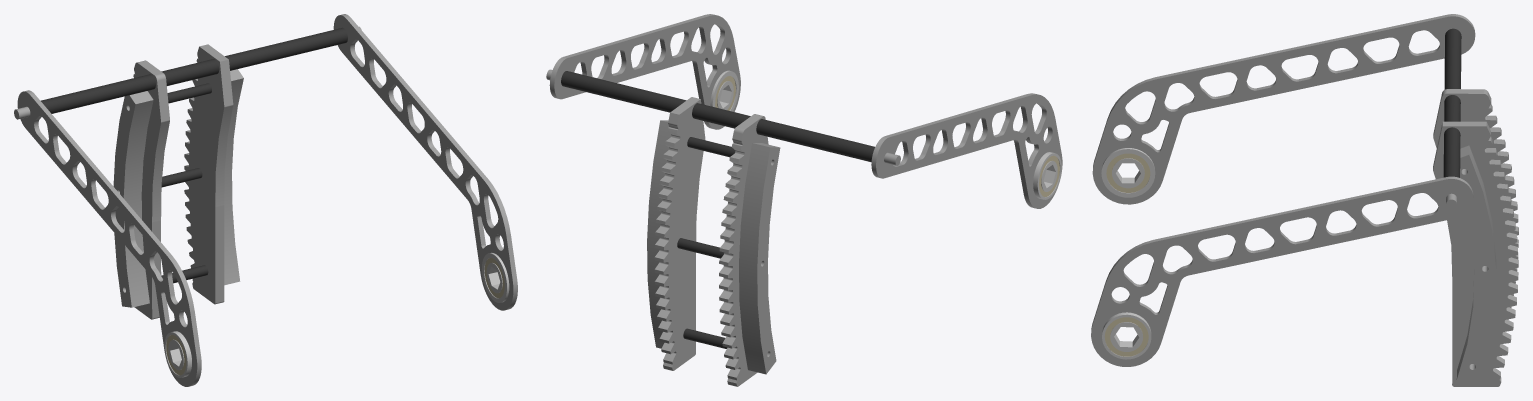
3 renders of one model, left to right at view 1: azimuth 30°, elevation 25°; view 2: azimuth 150°, elevation 25°; view 3: azimuth 270°, elevation 25°, orthographic. The views are drawn at different scales.
Parts seen in each view (by area): view 1: hood arm (×2), hood gear L, hood guide R, hood gear R, Tube spcr 3.314 3/8 OD 9056K64 (×2), 1/2" Hex Bore Bearing (1.125" OD, 0.313" WD, Shielded, Flang (×2), hood guide L, Part 1 (×2), Tube spcr 1.5 3/8 OD 9056K64; view 2: hood arm (×2), hood gear L, hood guide R, hood gear R, Tube spcr 3.314 3/8 OD 9056K64 (×2), hood guide L, 1/2" Hex Bore Bearing (1.125" OD, 0.313" WD, Shielded, Flang (×2), Part 1 (×3), Tube spcr 1.5 3/8 OD 9056K64; view 3: hood arm (×2), hood gear L, hood guide L, 1/2" Hex Bore Bearing (1.125" OD, 0.313" WD, Shielded, Flang (×2), hood gear R, Tube spcr 3.314 3/8 OD 9056K64 (×2), Tube spcr 1.5 3/8 OD 9056K64.
Part boxes in pixels (x1,y1,x2,y2): hood arm (×2): (17, 14, 517, 386); hood gear L: (184, 44, 233, 304); hood guide R: (113, 91, 153, 307); hood gear R: (133, 60, 169, 319); Tube spcr 3.314 3/8 OD 9056K64 (×2): (41, 27, 347, 113); 1/2" Hex Bore Bearing (1.125" OD, 0.313" WD, Shielded, Flang (×2): (164, 252, 509, 377); hood guide L: (224, 69, 243, 285); Part 1 (×2): (161, 83, 211, 187); Tube spcr 1.5 3/8 OD 9056K64: (161, 59, 219, 85); hood arm (×2): (549, 14, 1062, 208); hood gear L: (654, 97, 705, 370); hood guide R: (739, 143, 780, 374); hood gear R: (719, 114, 768, 386); Tube spcr 3.314 3/8 OD 9056K64 (×2): (561, 71, 874, 162); hood guide L: (647, 120, 670, 348); 1/2" Hex Bore Bearing (1.125" OD, 0.313" WD, Shielded, Flang (×2): (710, 70, 1061, 199); Part 1 (×3): (677, 137, 735, 348); Tube spcr 1.5 3/8 OD 9056K64: (692, 103, 750, 128); hood arm (×2): (1091, 14, 1475, 366); hood gear L: (1433, 121, 1518, 386); hood guide L: (1456, 145, 1496, 385); 1/2" Hex Bore Bearing (1.125" OD, 0.313" WD, Shielded, Flang (×2): (1101, 148, 1155, 359); hood gear R: (1433, 89, 1518, 319); Tube spcr 3.314 3/8 OD 9056K64 (×2): (1443, 28, 1461, 177); Tube spcr 1.5 3/8 OD 9056K64: (1444, 95, 1460, 121).
Size of the model in its own units: 0.2413 by 0.1734 by 0.2472.
